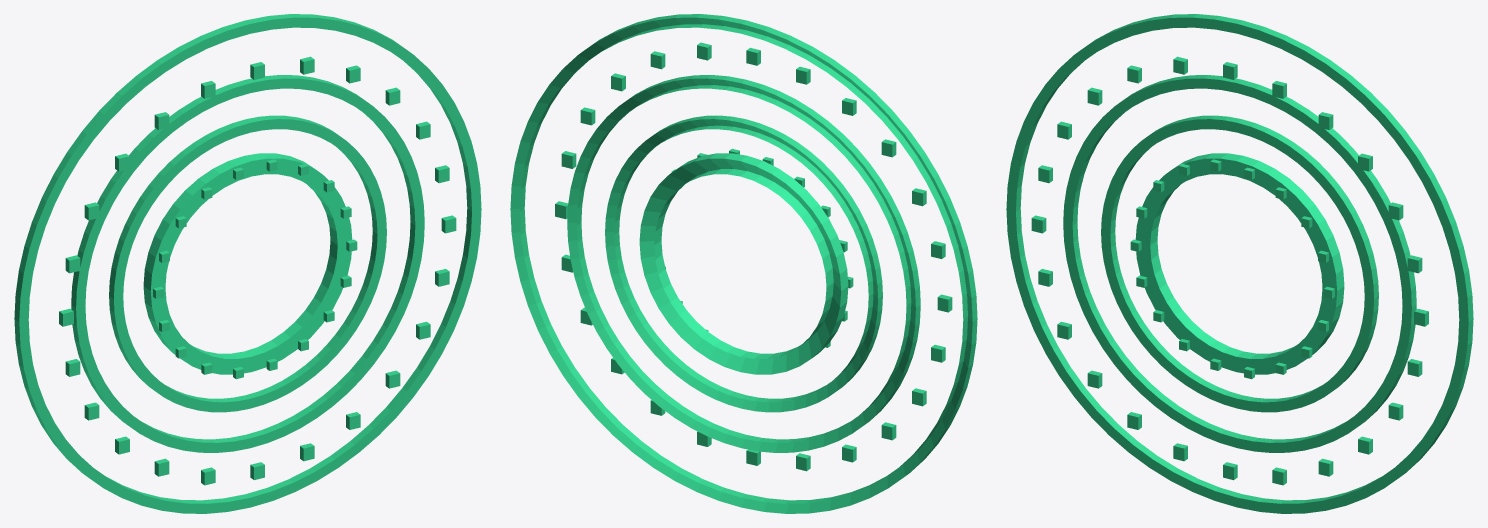
The model's file is 62_L81_ECCCorrectionArcHologram.fbx.
3 renders of one model, left to right at view 1: azimuth 30°, elevation 25°; view 2: azimuth 150°, elevation 25°; view 3: azimuth 330°, elevation 25°, orthographic.
Visible parts, largest first — view 1: ECCCorrectionArcHologram, ECCCorrectionArcHologram_Part_0027; view 2: ECCCorrectionArcHologram, ECCCorrectionArcHologram_Part_0027; view 3: ECCCorrectionArcHologram, ECCCorrectionArcHologram_Part_0027.
Boxes of the visible parts, x1,y1,x2,y2 form: ECCCorrectionArcHologram: (14, 14, 481, 513); ECCCorrectionArcHologram_Part_0027: (143, 153, 352, 374); ECCCorrectionArcHologram: (510, 14, 977, 513); ECCCorrectionArcHologram_Part_0027: (639, 153, 848, 374); ECCCorrectionArcHologram: (1006, 14, 1473, 513); ECCCorrectionArcHologram_Part_0027: (1135, 153, 1344, 374).
Size of the model in its own units: 220 by 220 by 12.55.
